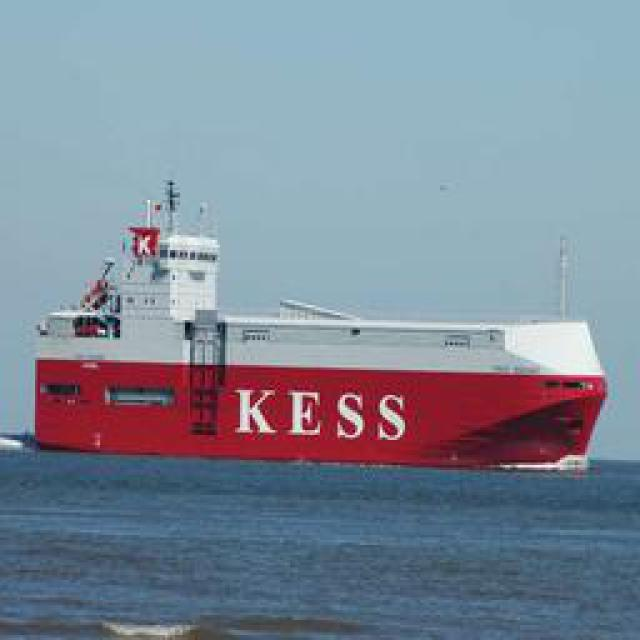Ship: (32, 172, 602, 472)
